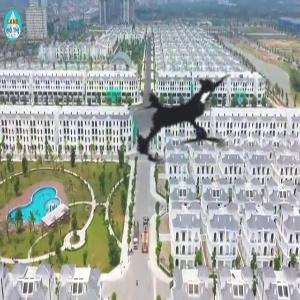drone: (95, 33, 274, 212)
